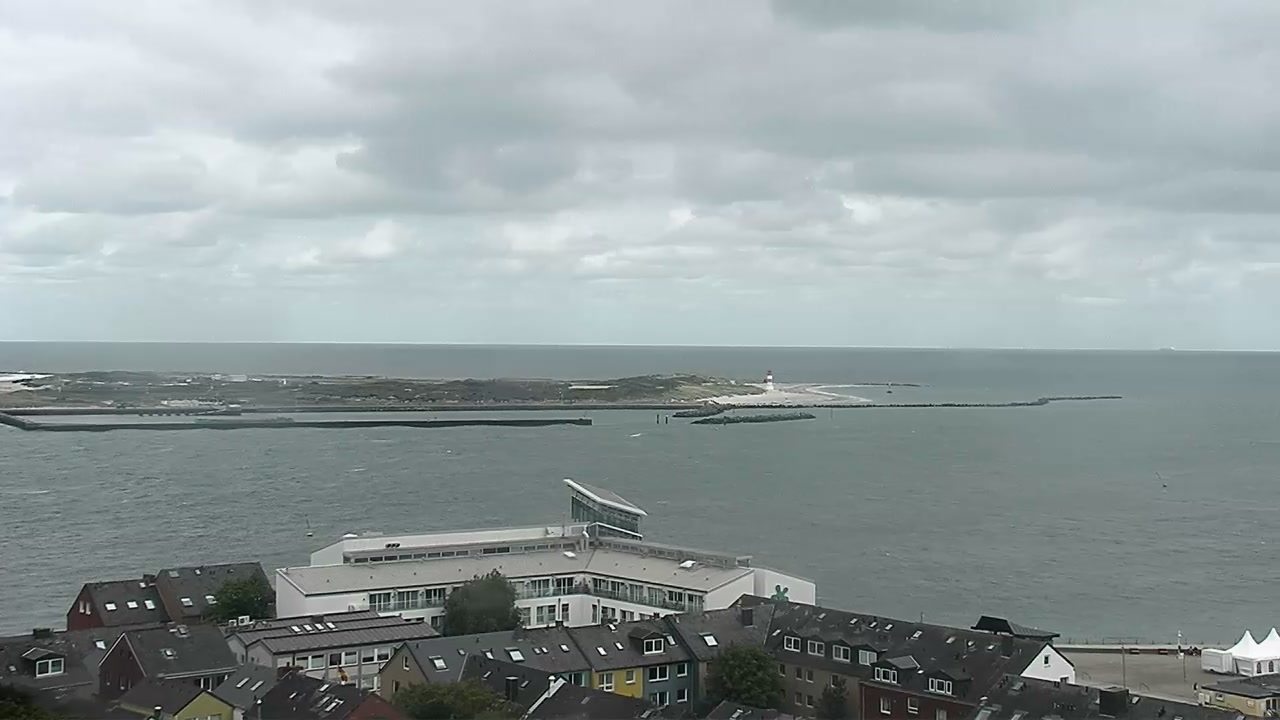human: (1192, 681, 1199, 695), (1193, 645, 1199, 657), (1188, 644, 1193, 656)
land: (114, 401, 136, 407)
sea: (1158, 345, 1175, 352)
